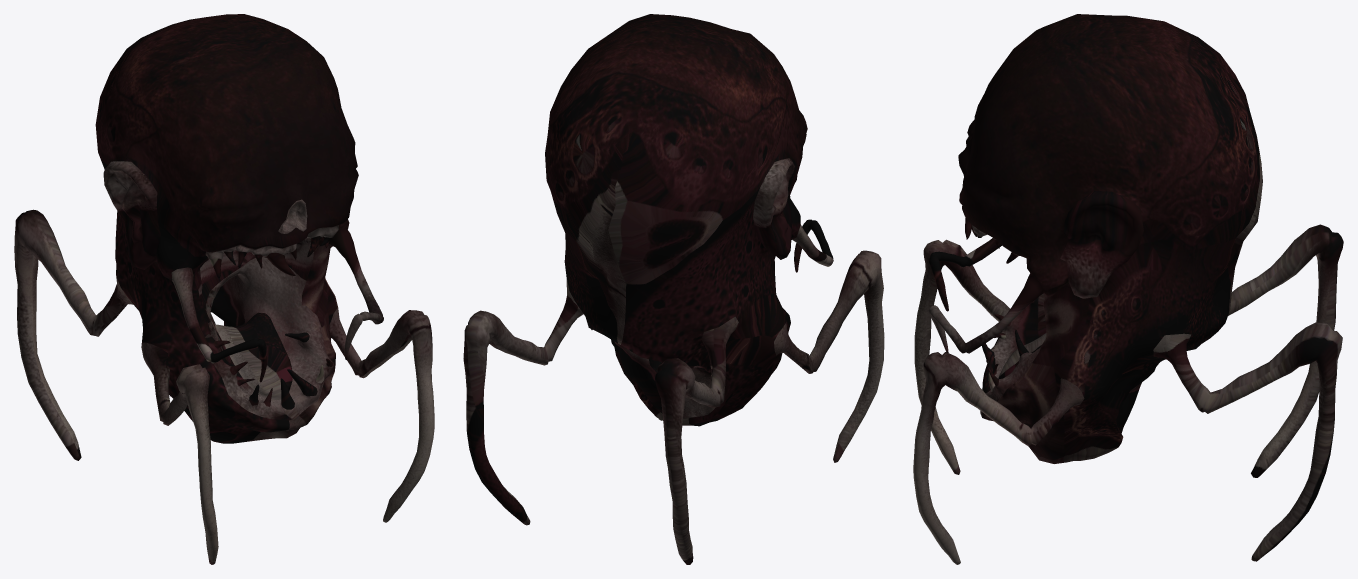
The picture shows the model from 3 angles, left to right: view 1: azimuth 30°, elevation 25°; view 2: azimuth 150°, elevation 25°; view 3: azimuth 270°, elevation 25°; orthographic projection. The views are drawn at different scales.
Visible parts, largest first — view 1: rdmobj00; view 2: rdmobj00; view 3: rdmobj00.
Boxes of the visible parts, x1,y1,x2,y2 form: rdmobj00: [14, 14, 434, 564]; rdmobj00: [463, 14, 884, 564]; rdmobj00: [913, 14, 1343, 564].
Size of the model in its own units: 11.04 by 19.51 by 15.61.
1 material, 1 textured.
